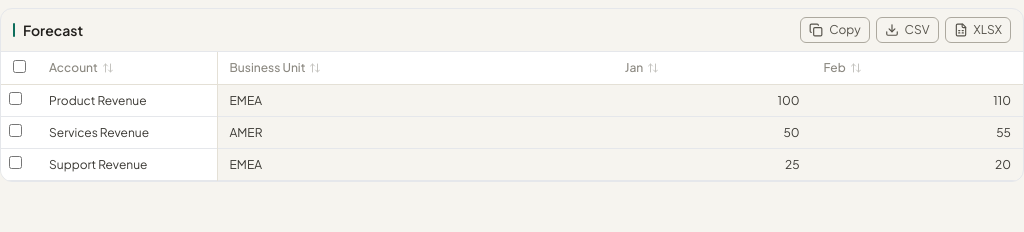
Test: DataTable › selection › select-all covers every visible row
The image size is (1024, 232).
What coordinates should you click on to do the following:
click the checkbox named "Select all rows"
I would click on:
 (19, 66)
Its box is [12,60,26,72].
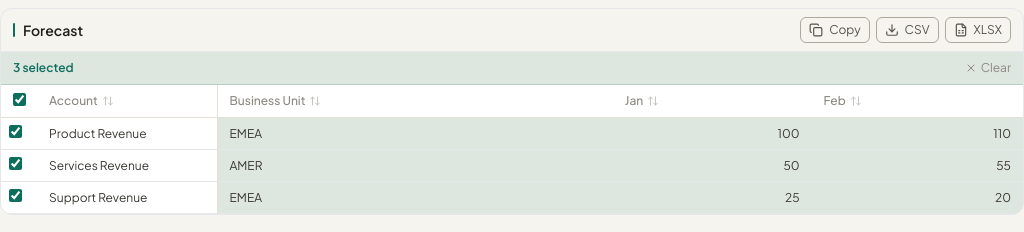
Expected: the text "3 selected" is shown, [13,60,74,76]
